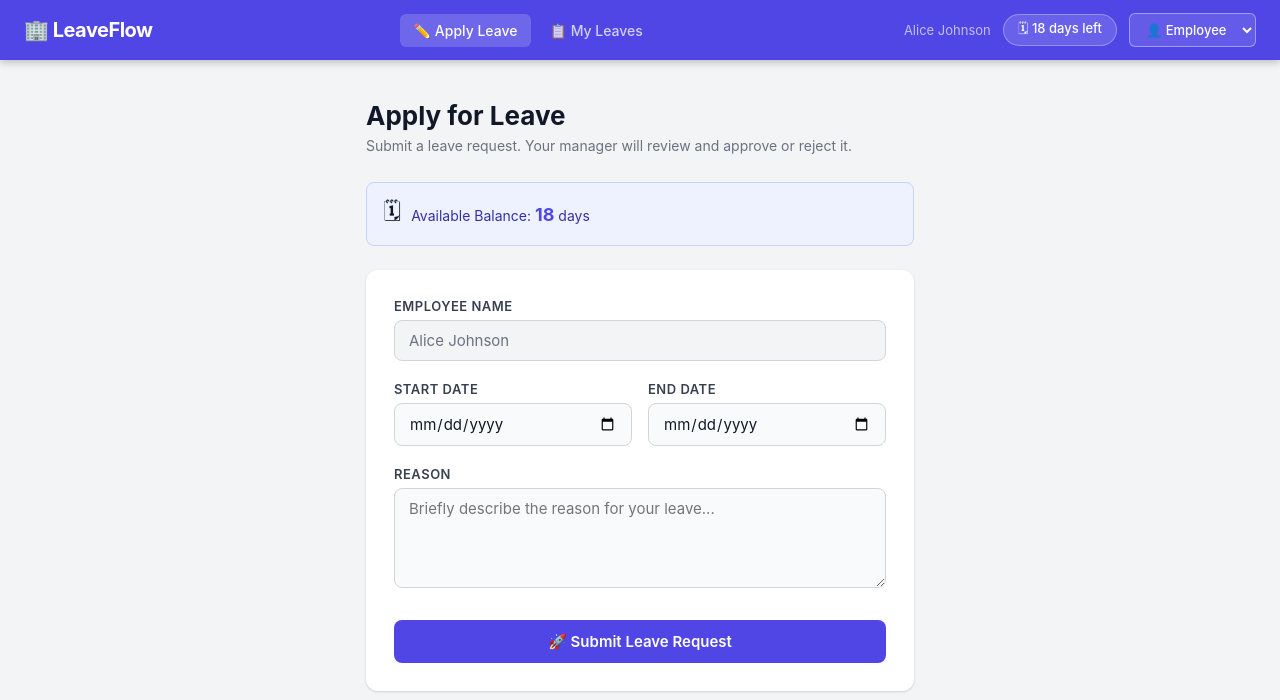
Test: Leave Management – E2E Tests › Navigation and role switcher › shows leave balance only in employee role
Select "👤 Employee" in the dropdown with test id "role-switcher" at [1193, 30], box 1129,13 -> 1256,47
Expected: the text "🗓 18 days left" is shown, 1003,14 -> 1117,46
Select "👔 Manager" in the dropdown with test id "role-switcher" at [1193, 30], box 1129,13 -> 1256,47
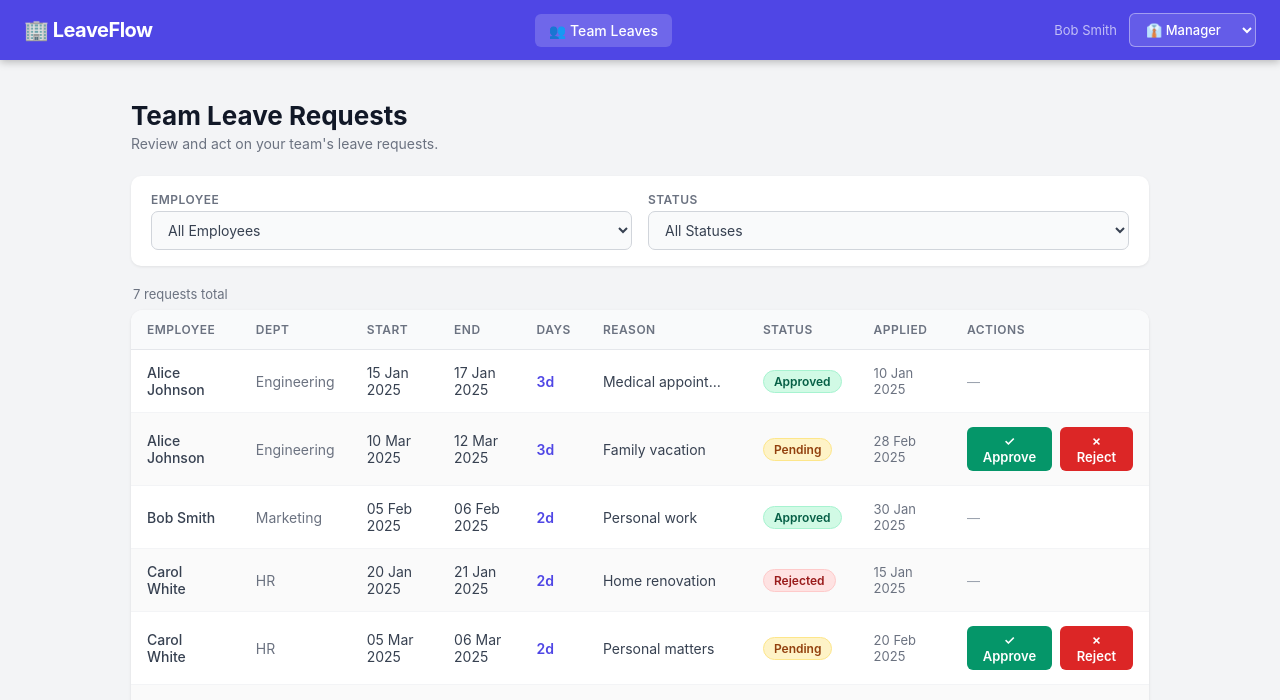
Expected: the text with test id "leave-balance" is gone
